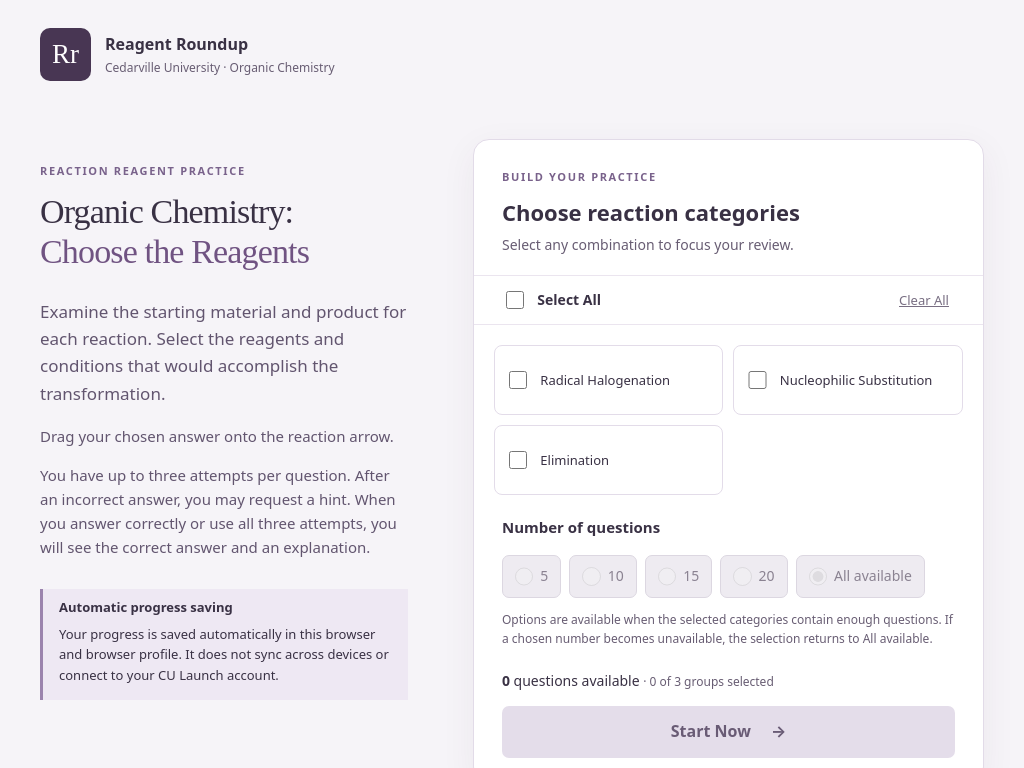
Scenario: group selection filters underlying question categories › Nucleophilic Substitution includes all its categories
Click the checkbox labelled "Nucleophilic Substitution" at (758, 380), box 748,371 -> 767,389
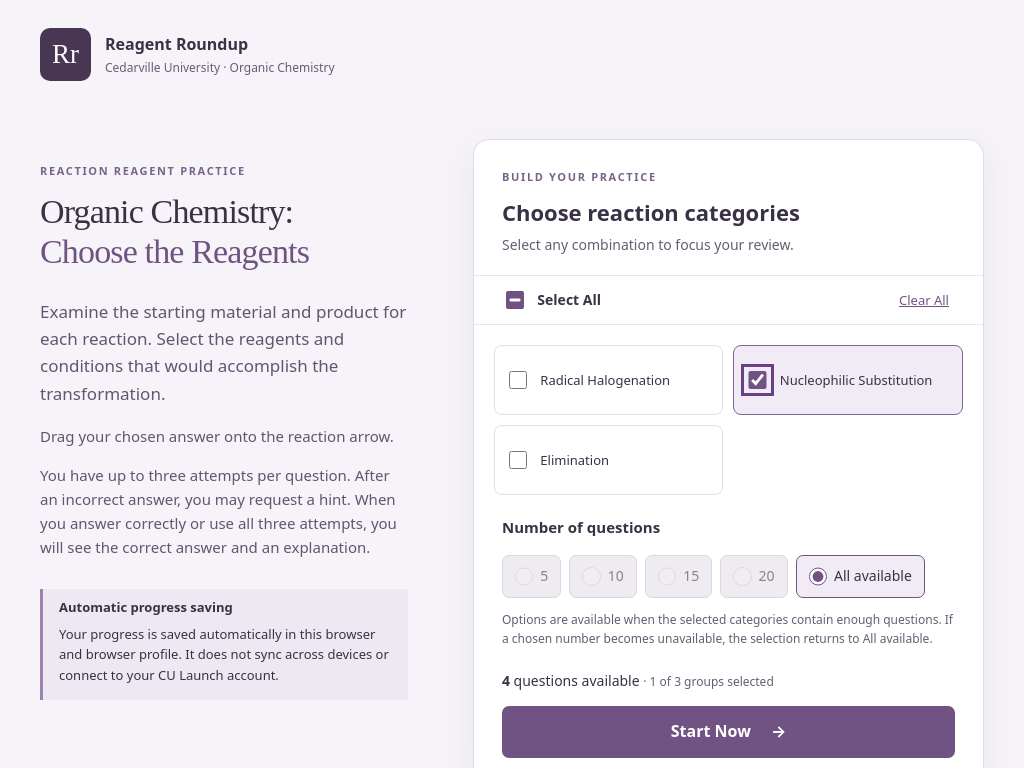
Click the checkbox labelled "Nucleophilic Substitution" at (758, 380), box 748,371 -> 767,389
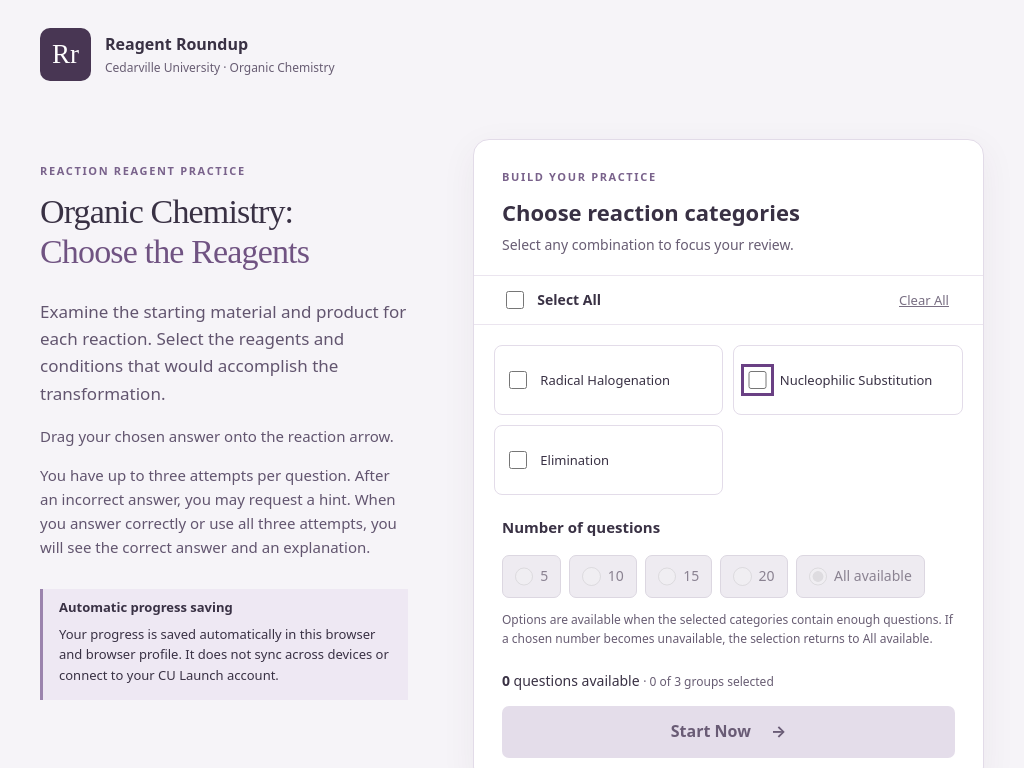
Expected: the message shows "0 questions available", 502,671 -> 774,690
